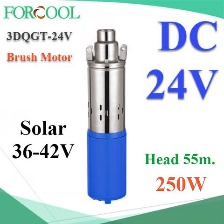battery: (81, 22, 134, 207)
